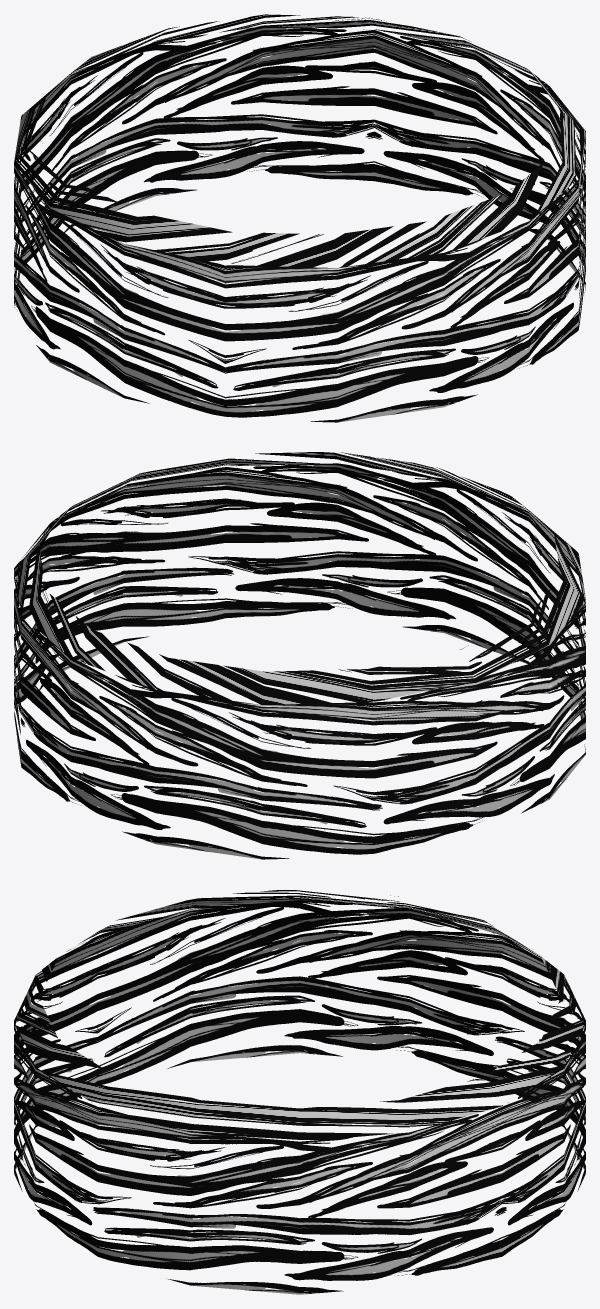
The model's file is SpinAttackPower.fbx.
3 renders of one model, top to bottom at view 1: azimuth 30°, elevation 25°; view 2: azimuth 150°, elevation 25°; view 3: azimuth 270°, elevation 25°, orthographic.
Visible parts, largest first — view 1: SpinAttackObject; view 2: SpinAttackObject; view 3: SpinAttackObject.
Part boxes in pixels (x1,y1,x2,y2): SpinAttackObject: (14, 14, 585, 422); SpinAttackObject: (14, 452, 585, 859); SpinAttackObject: (14, 890, 585, 1294).
Size of what is drawn, in the model's own units: 13.26 by 13.26 by 4.49.
